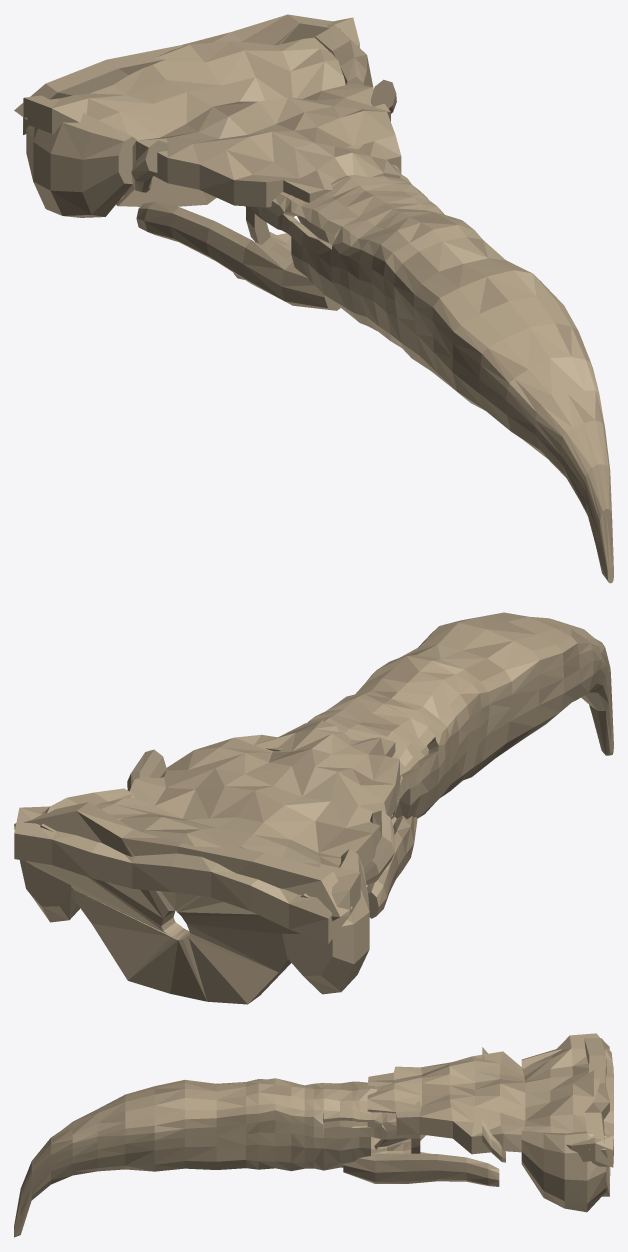
3 views of the same model, one above another, from view 1: azimuth 30°, elevation 25°; view 2: azimuth 150°, elevation 25°; view 3: azimuth 270°, elevation 25° (orthographic). The views are drawn at different scales.
Visible parts, largest first — view 1: 01 elongated rostrum · true naris and antorbital windows, 02 broad crushed frontal-parietal table, 03 left jugal and broken orbital processes, 04 broken occipital table with foramen magnum, 03 right jugal and broken orbital processes; view 2: 02 broad crushed frontal-parietal table, 01 elongated rostrum · true naris and antorbital windows, 04 broken occipital table with foramen magnum, 03 left jugal and broken orbital processes, 03 right jugal and broken orbital processes; view 3: 01 elongated rostrum · true naris and antorbital windows, 02 broad crushed frontal-parietal table, 03 right jugal and broken orbital processes, 04 broken occipital table with foramen magnum, 03 left jugal and broken orbital processes.
Part boxes in pixels (<box>): 01 elongated rostrum · true naris and antorbital windows: <box>245,144,613,583</box>; 02 broad crushed frontal-parietal table: <box>23,17,401,207</box>; 03 left jugal and broken orbital processes: <box>26,113,340,310</box>; 04 broken occipital table with foramen magnum: <box>14,14,340,206</box>; 03 right jugal and broken orbital processes: <box>315,24,396,113</box>; 02 broad crushed frontal-parietal table: <box>14,720,399,943</box>; 01 elongated rostrum · true naris and antorbital windows: <box>265,612,613,825</box>; 04 broken occipital table with foramen magnum: <box>14,802,352,1004</box>; 03 left jugal and broken orbital processes: <box>282,802,417,994</box>; 03 right jugal and broken orbital processes: <box>20,749,166,922</box>; 01 elongated rostrum · true naris and antorbital windows: <box>14,1078,420,1237</box>; 02 broad crushed frontal-parietal table: <box>367,1033,613,1167</box>; 03 right jugal and broken orbital processes: <box>343,1119,606,1212</box>; 04 broken occipital table with foramen magnum: <box>584,1038,610,1196</box>; 03 left jugal and broken orbital processes: <box>351,1047,606,1127</box>.
Size of the model in its own units: 0.312 by 0.2102 by 0.716.
